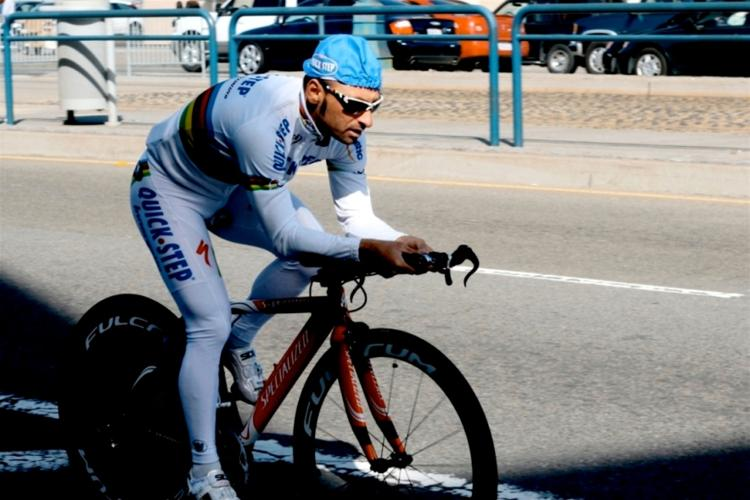person: (127, 33, 436, 500)
